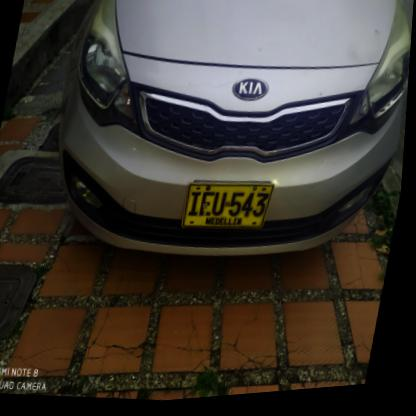placa: (178, 173, 279, 245)
